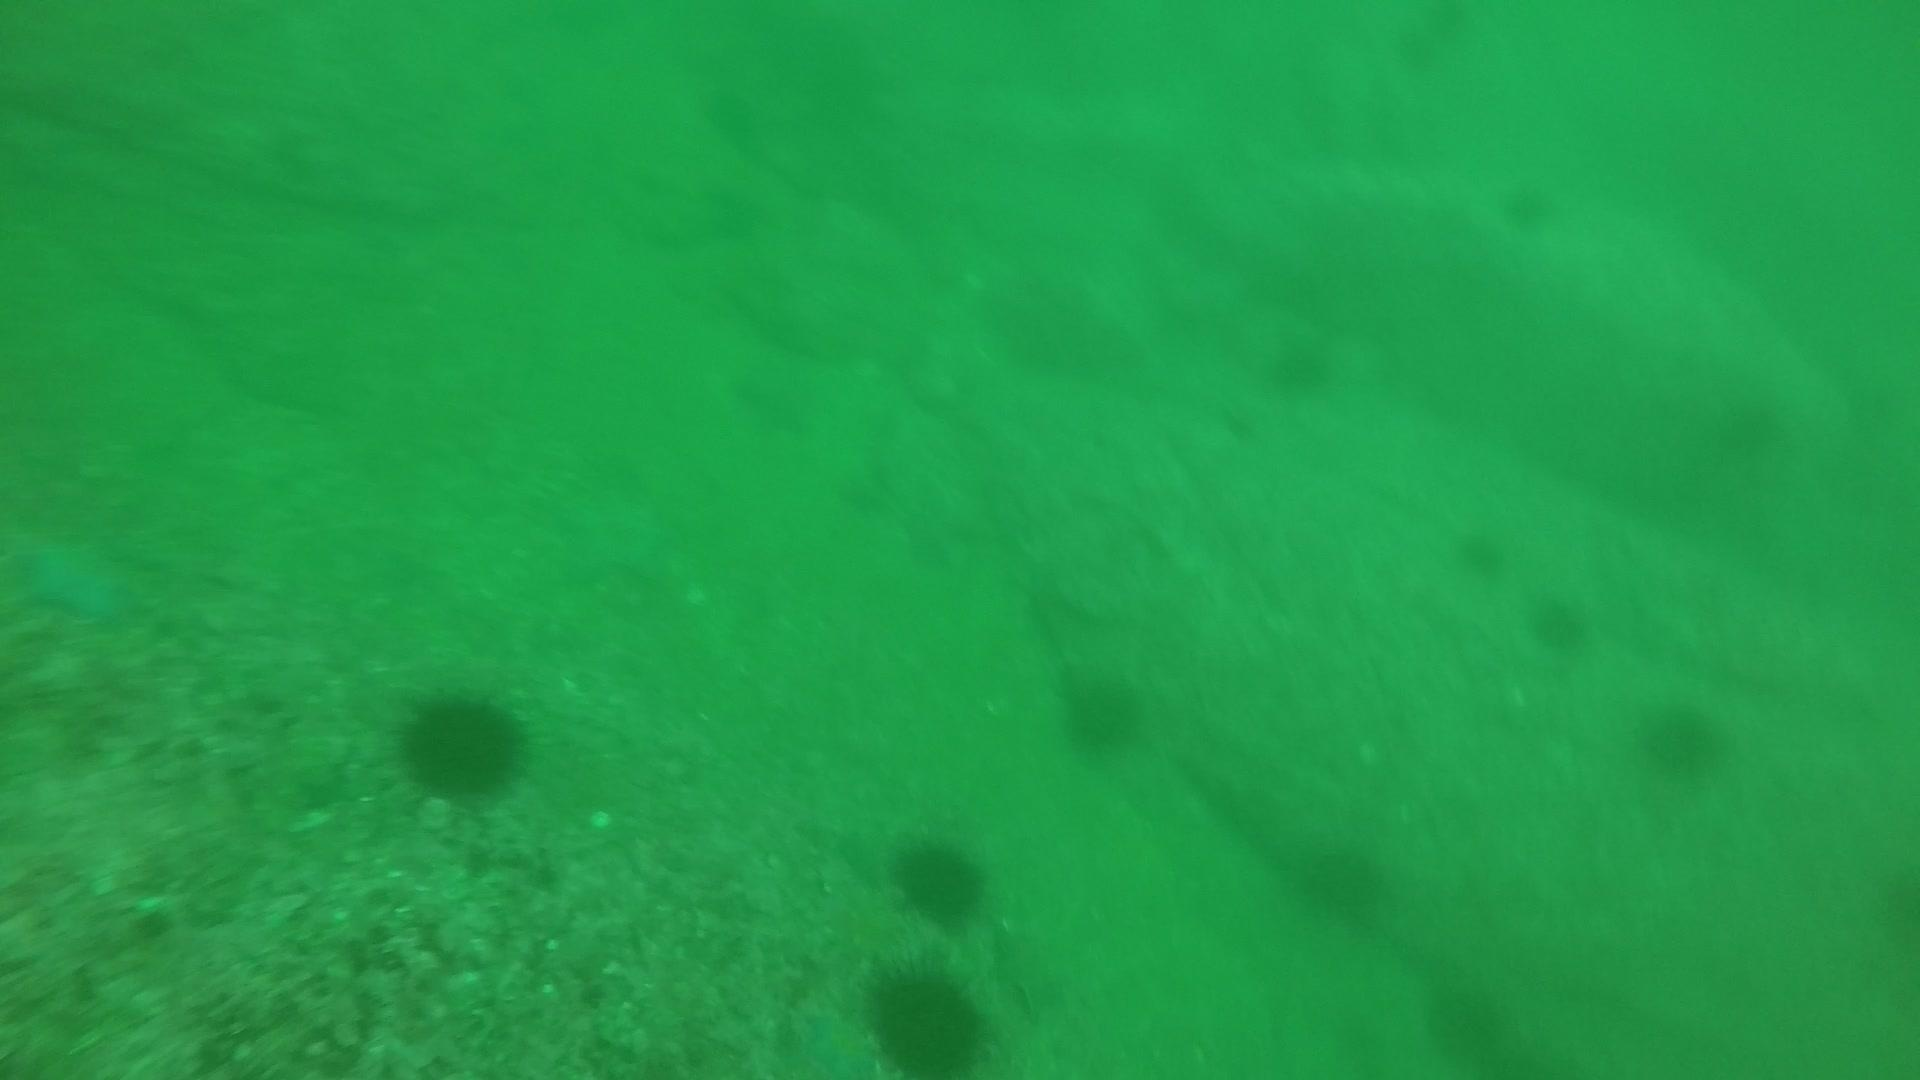echinus: (392, 684, 531, 806), (860, 957, 996, 1076), (887, 829, 993, 930), (1290, 833, 1393, 926), (1054, 662, 1149, 760), (1422, 975, 1520, 1068), (1633, 694, 1733, 783), (1708, 382, 1789, 462), (1261, 327, 1340, 400), (1524, 589, 1594, 655), (1448, 521, 1513, 582), (1495, 174, 1561, 233), (1389, 26, 1435, 65), (1424, 1, 1472, 38)
starfish: (11, 527, 141, 629), (783, 997, 889, 1077)
